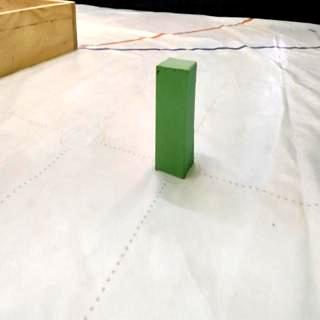greenbox: (154, 55, 198, 178)
